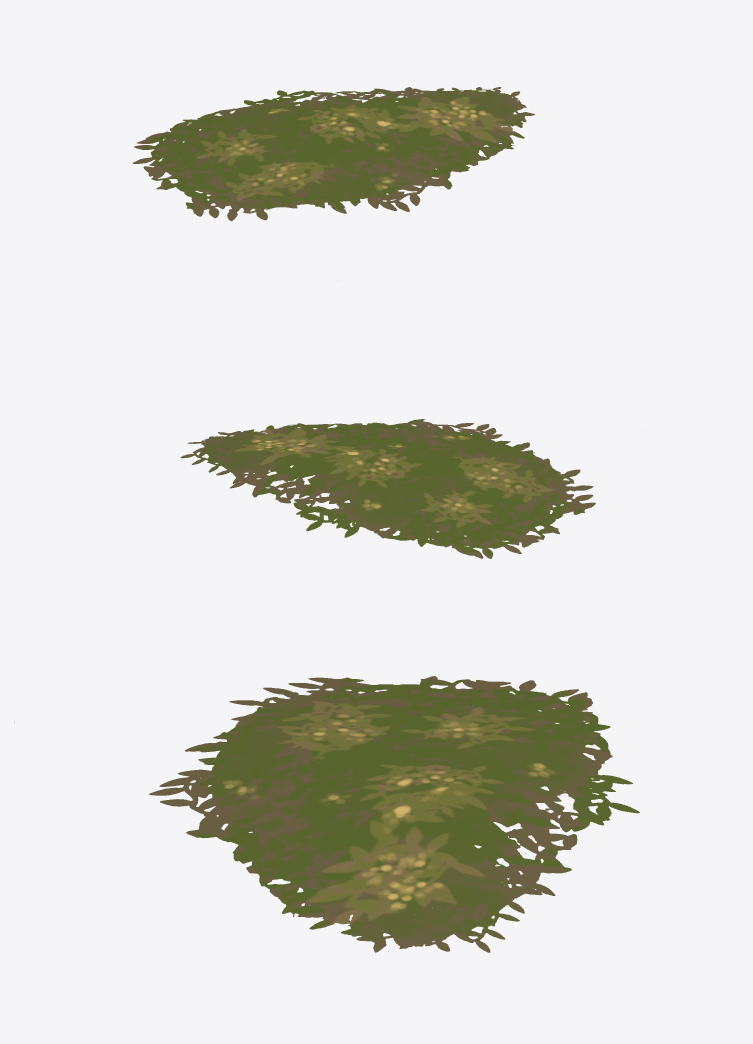
File: DaisyPatch.fbx
3 renders of one model, top to bottom at view 1: azimuth 30°, elevation 25°; view 2: azimuth 150°, elevation 25°; view 3: azimuth 270°, elevation 25°, orthographic. The views are drawn at different scales.
Visible parts, largest first — view 1: DaisyPlane; view 2: DaisyPlane; view 3: DaisyPlane.
Boxes of the visible parts, left/top/right/bottom form: DaisyPlane: left=132, top=87, right=535, bottom=221; DaisyPlane: left=180, top=419, right=595, bottom=558; DaisyPlane: left=14, top=676, right=639, bottom=952.
Size of the model in its own units: 340 by 22.01 by 274.
